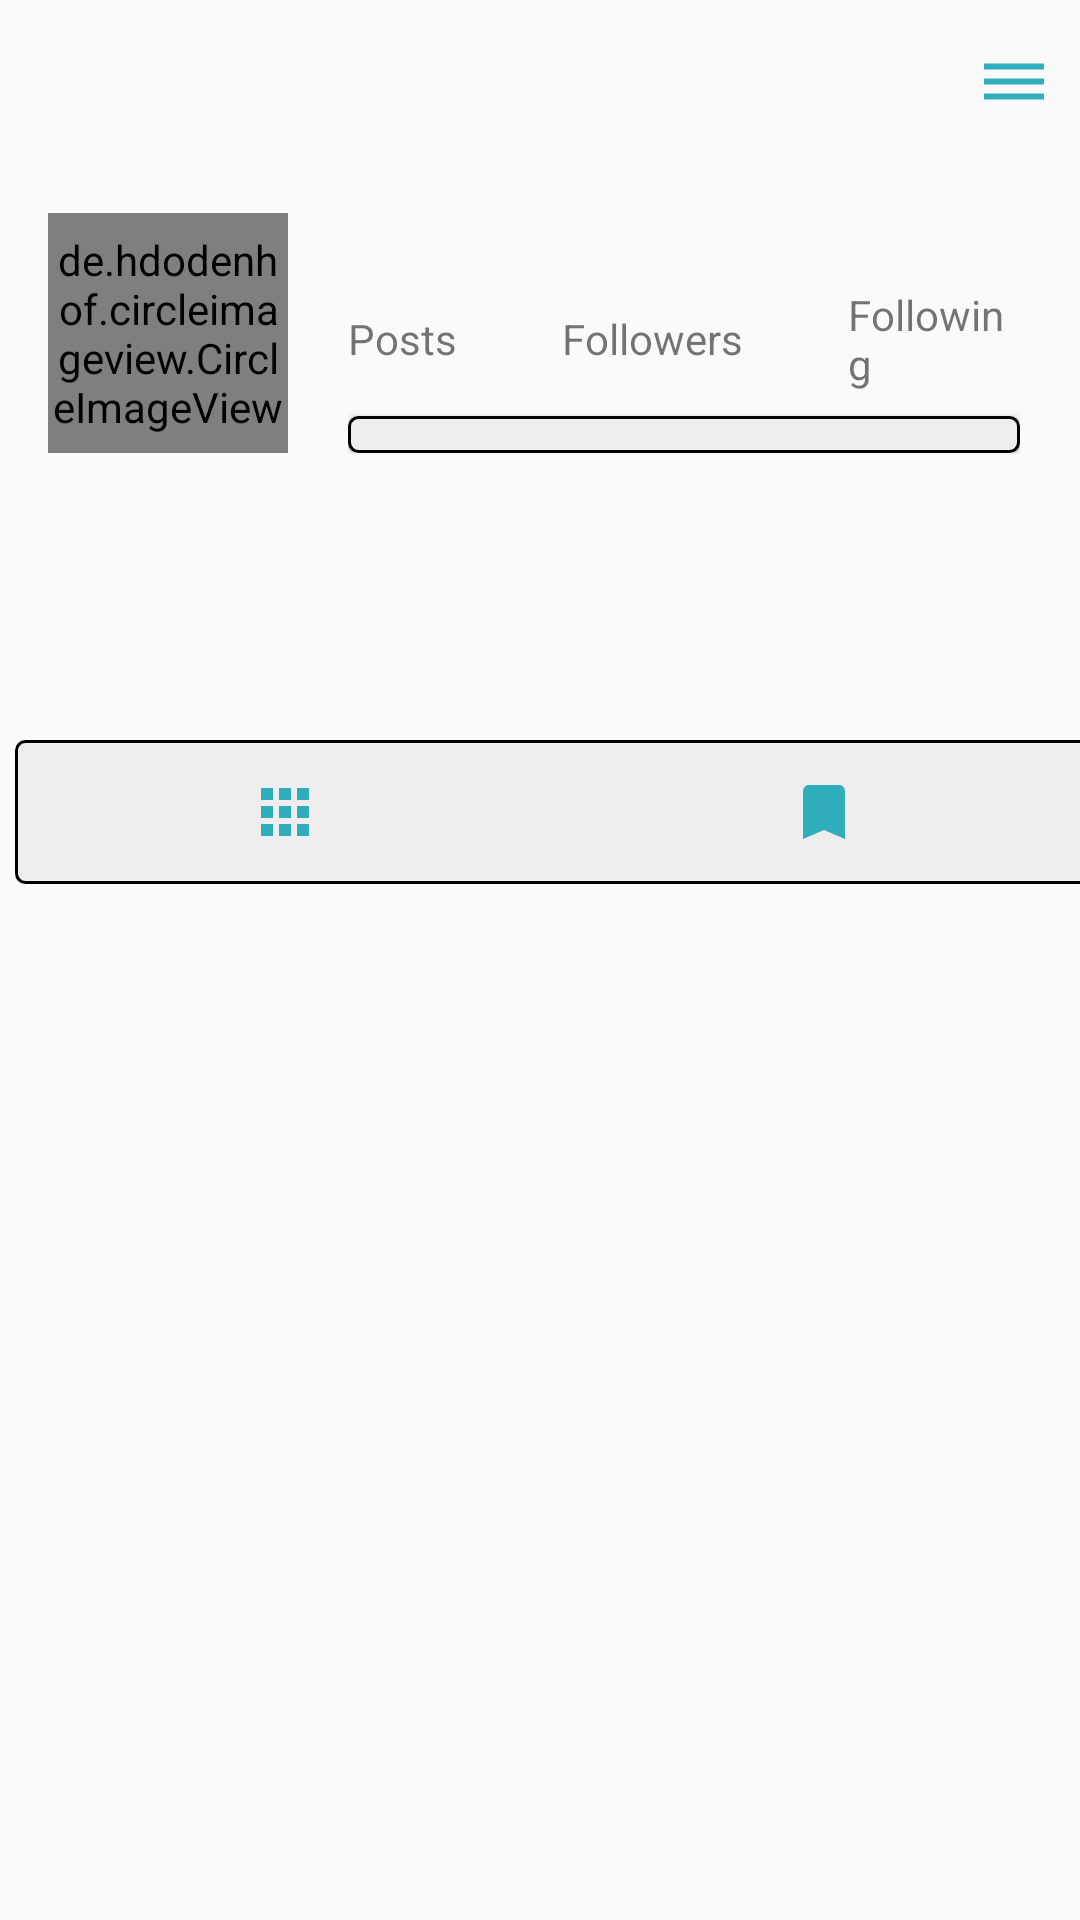

Locate icon controls on the screen. Image size 1080x1920, boxes as (x1=x1, y1=y1, x2=x2, y2=y2).
options: (x1=984, y1=63, x2=1044, y2=100)
